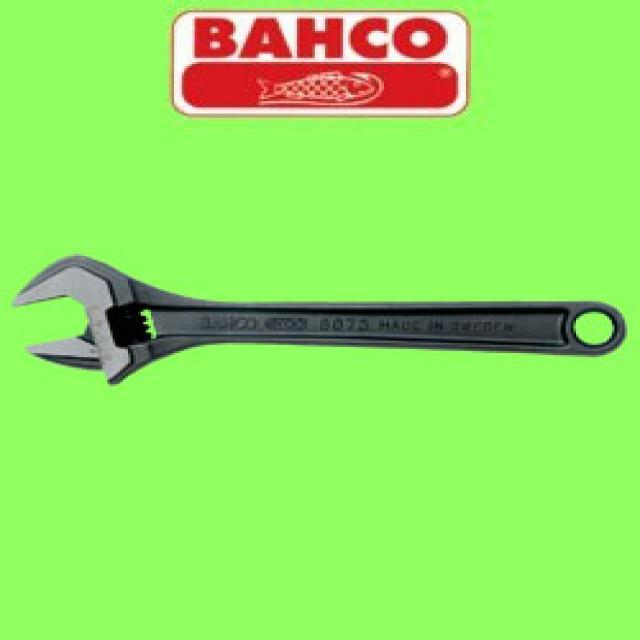wrench: (9, 245, 634, 392)
